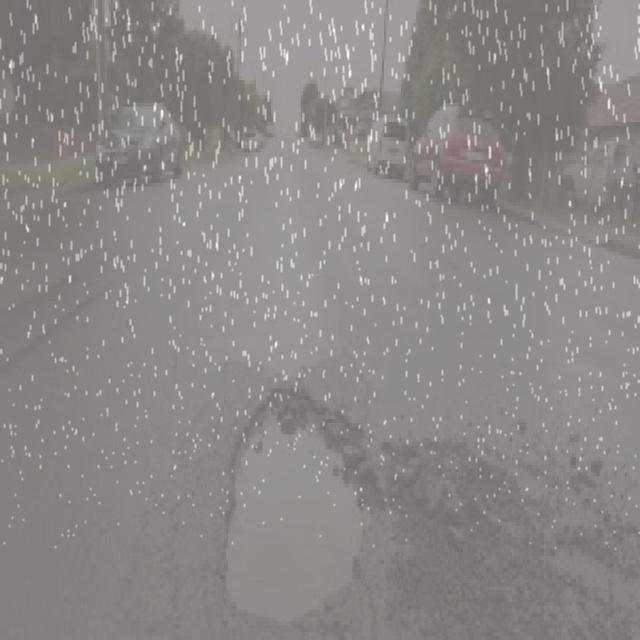Pothole: (210, 379, 404, 640)
